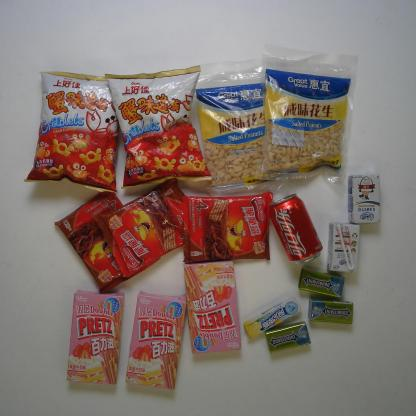Candy: (242, 292, 305, 344)
Dessert: (92, 176, 195, 284), (53, 185, 144, 294), (176, 191, 278, 265), (124, 287, 189, 391), (181, 253, 245, 358), (61, 287, 124, 388)
Dried Fruit: (257, 41, 358, 186), (189, 57, 286, 194)
Drink: (264, 193, 328, 267)
Gum: (295, 262, 348, 300), (263, 319, 313, 355), (307, 298, 358, 326)
Milk: (344, 169, 384, 227), (326, 220, 363, 274)
Puffed Food: (103, 62, 214, 189), (22, 67, 126, 194)
